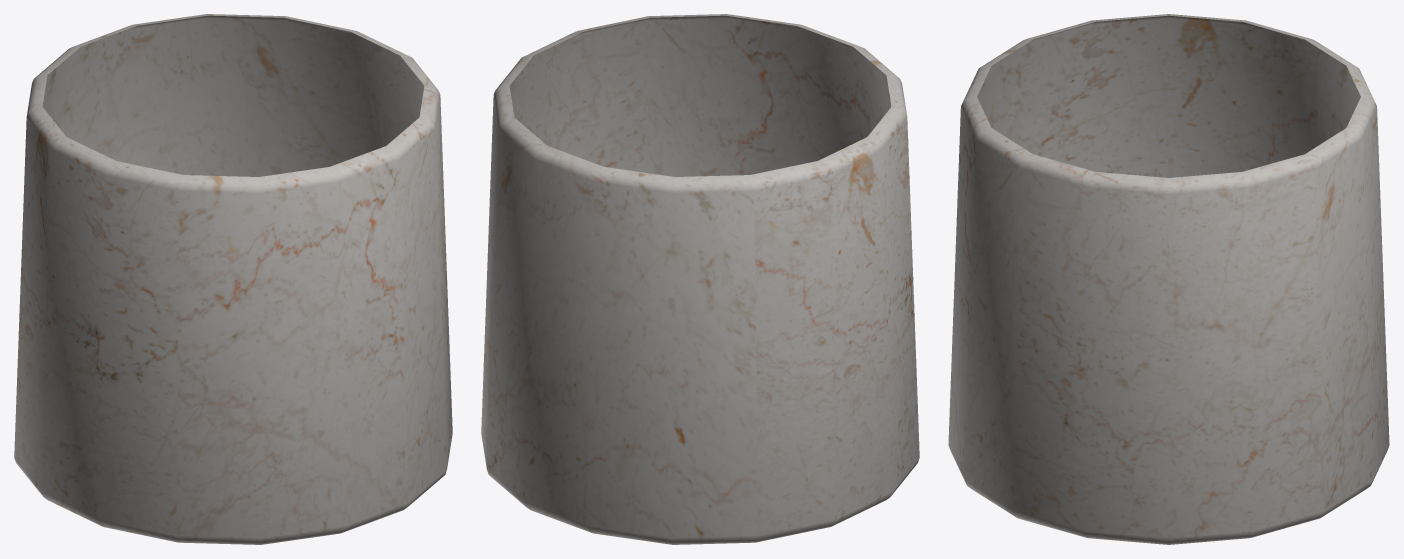
File: Middle.fbx
The picture shows the model from 3 angles, left to right: view 1: azimuth 30°, elevation 25°; view 2: azimuth 150°, elevation 25°; view 3: azimuth 270°, elevation 25°; orthographic projection.
Visible parts, largest first — view 1: Middle_Baked; view 2: Middle_Baked; view 3: Middle_Baked.
Part boxes in pixels (bbox=[...]): Middle_Baked: bbox=[14, 14, 452, 544]; Middle_Baked: bbox=[481, 14, 919, 544]; Middle_Baked: bbox=[948, 14, 1389, 544].
Size of the model in its own units: 444 by 400 by 444.
